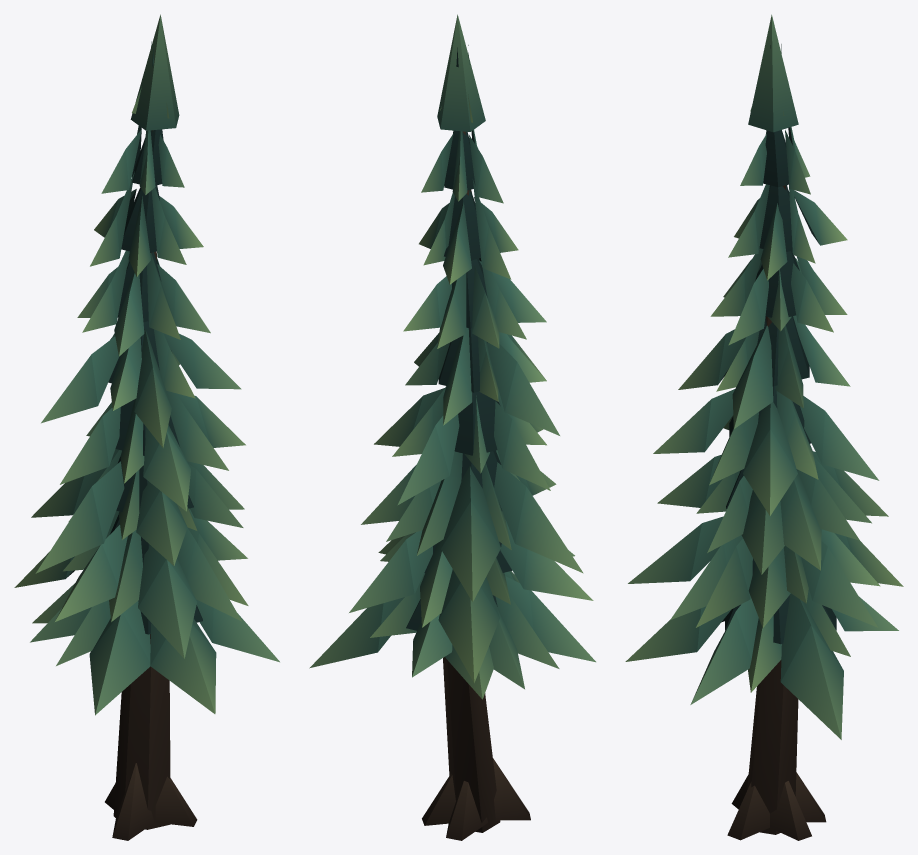
File: baum_fichte3.glb
The picture shows the model from 3 angles, left to right: view 1: azimuth 30°, elevation 25°; view 2: azimuth 150°, elevation 25°; view 3: azimuth 270°, elevation 25°; orthographic projection.
Visible parts, largest first — view 1: baum_fichte3; view 2: baum_fichte3; view 3: baum_fichte3.
Boxes of the visible parts, box(x1,y1,x2,y2) form: baum_fichte3: box(14, 14, 279, 840); baum_fichte3: box(309, 14, 595, 840); baum_fichte3: box(625, 14, 903, 840).
Bounding box in the file's own units: 3.18 × 10.17 × 3.14.
